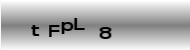8: (98, 25, 112, 40)
F: (47, 23, 60, 38)
L: (72, 16, 86, 31)
p: (60, 20, 74, 35)
t: (29, 23, 40, 37)
